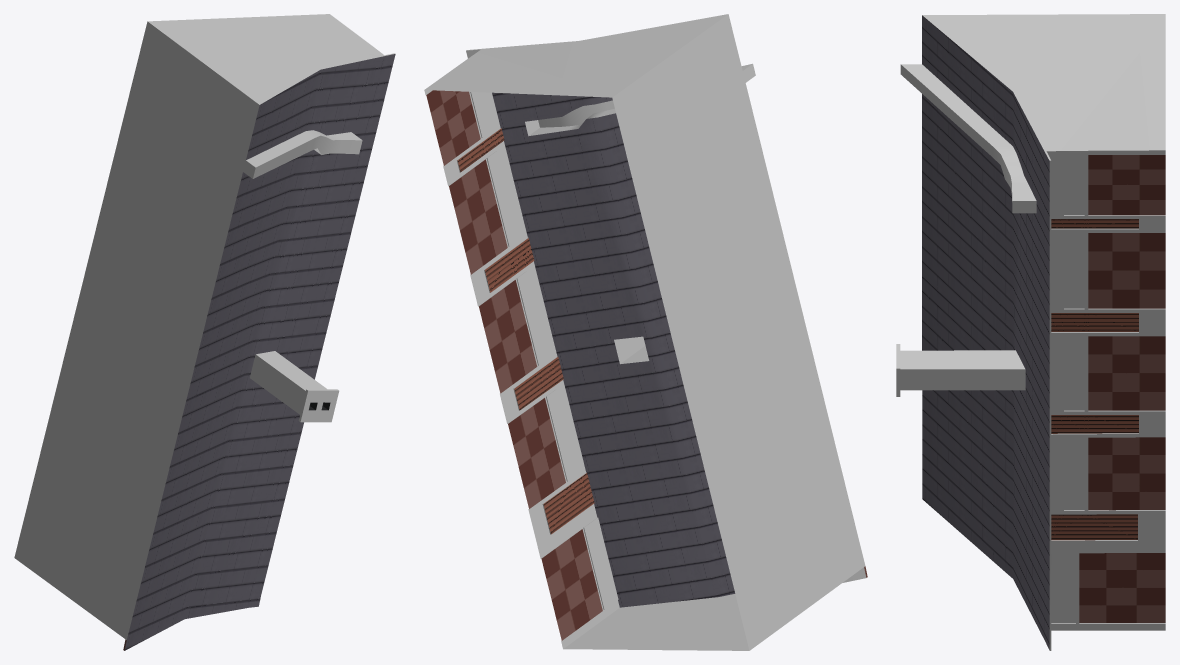
The model's file is Vene_23.obj.
The picture shows the model from 3 angles, left to right: view 1: azimuth 30°, elevation 25°; view 2: azimuth 150°, elevation 25°; view 3: azimuth 270°, elevation 25°; orthographic projection. The views are drawn at different scales.
Visible parts, largest first — view 1: Vene23; view 2: Vene23; view 3: Vene23.
Part boxes in pixels (box(x1,y1,x2,y2)): Vene23: box(14, 14, 395, 650); Vene23: box(424, 14, 867, 650); Vene23: box(896, 14, 1165, 650).
Bounding box in the file's own units: 10.63 × 17.25 × 6.94.
